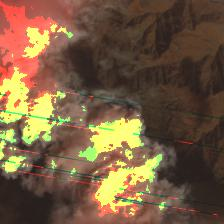landslides: (127, 163, 140, 175)
